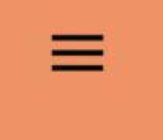ImgButton: (1, 1, 162, 139)
